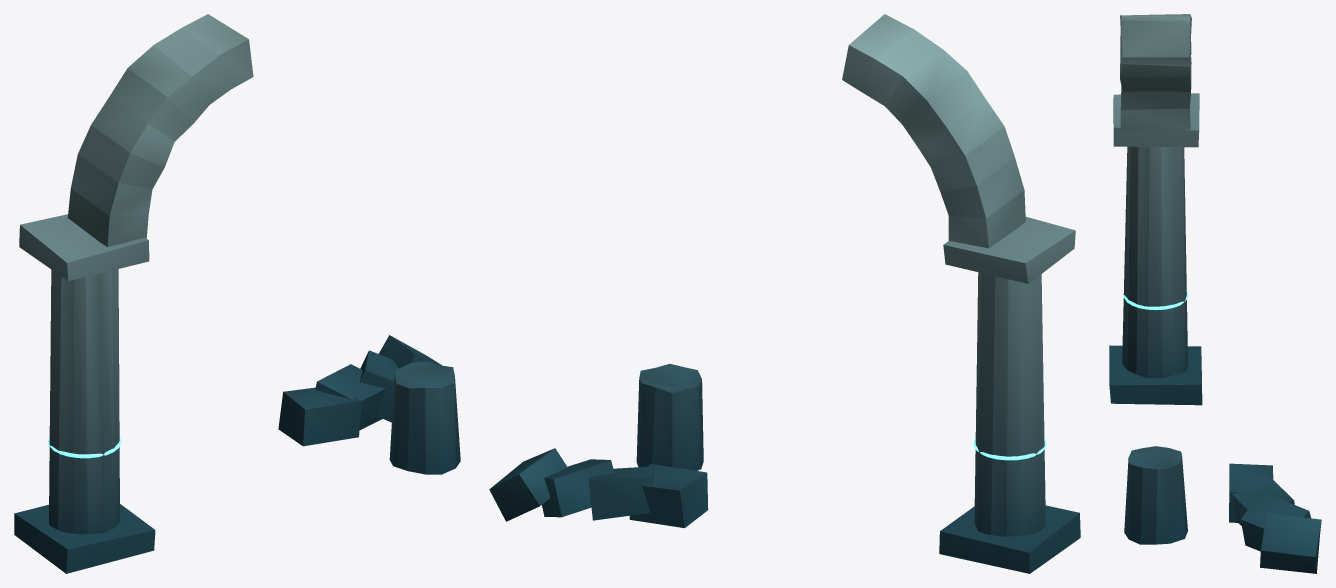
File: ruin_arch_broken.glb
3 views of the same model, side by side, from view 1: azimuth 30°, elevation 25°; view 2: azimuth 150°, elevation 25°; view 3: azimuth 270°, elevation 25° (orthographic). The views are drawn at different scales.
Parts seen in each view (by area): view 1: ruin_arch_broken_stone; view 2: ruin_arch_broken_stone; view 3: ruin_arch_broken_stone.
Boxes of the visible parts, left/top/right/bottom form: ruin_arch_broken_stone: left=14, top=14, right=460, bottom=573; ruin_arch_broken_stone: left=489, top=14, right=1080, bottom=573; ruin_arch_broken_stone: left=1109, top=14, right=1321, bottom=573.
Size of the model in its own units: 11.23 by 11.11 by 4.89.
